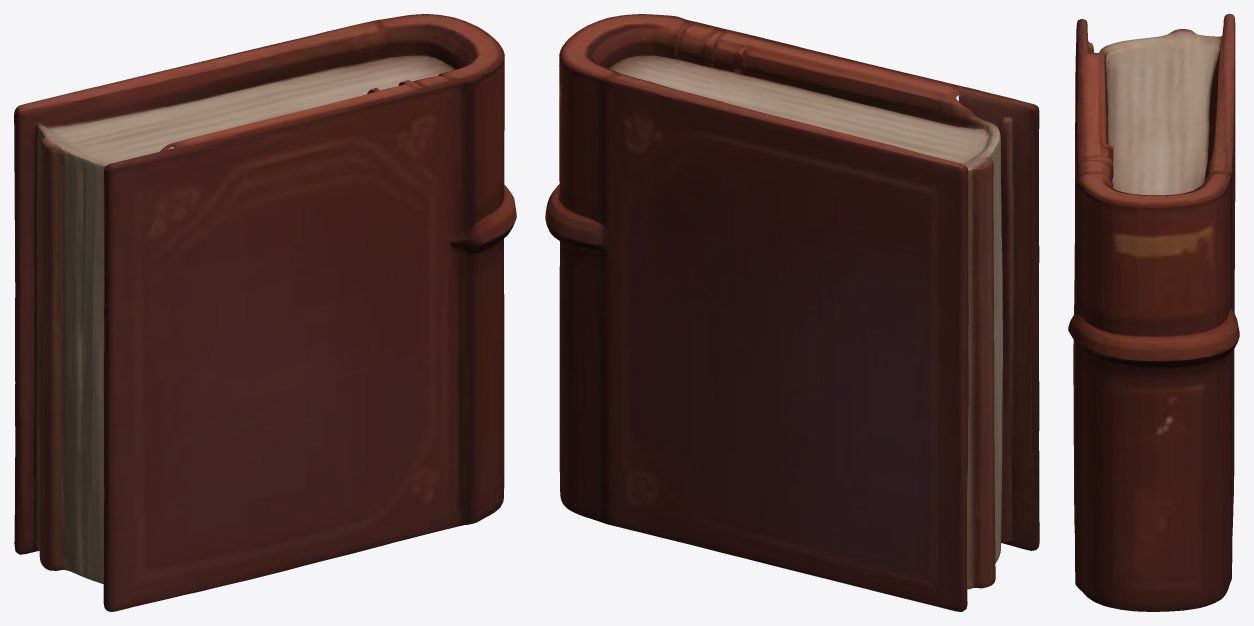
The model's file is trap_giant_book.glb.
3 views of the same model, side by side, from view 1: azimuth 30°, elevation 25°; view 2: azimuth 150°, elevation 25°; view 3: azimuth 270°, elevation 25° (orthographic). The views are drawn at different scales.
Visible parts, largest first — view 1: world; view 2: world; view 3: world.
Part boxes in pixels (bbox=[...]): world: bbox=[14, 14, 516, 611]; world: bbox=[545, 14, 1039, 611]; world: bbox=[1068, 14, 1239, 611].
Bounding box in the file's own units: 1 × 0.9633 × 0.3663.
Materials: 1 (1 with a texture image).
